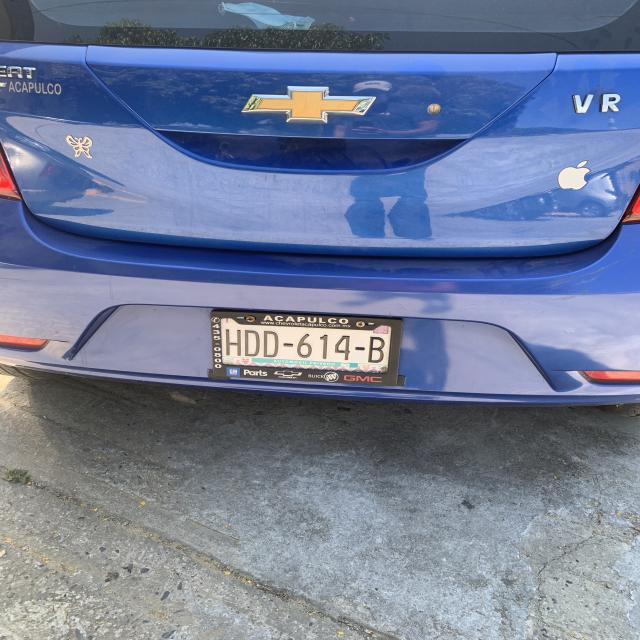placa: (220, 324, 392, 362)
